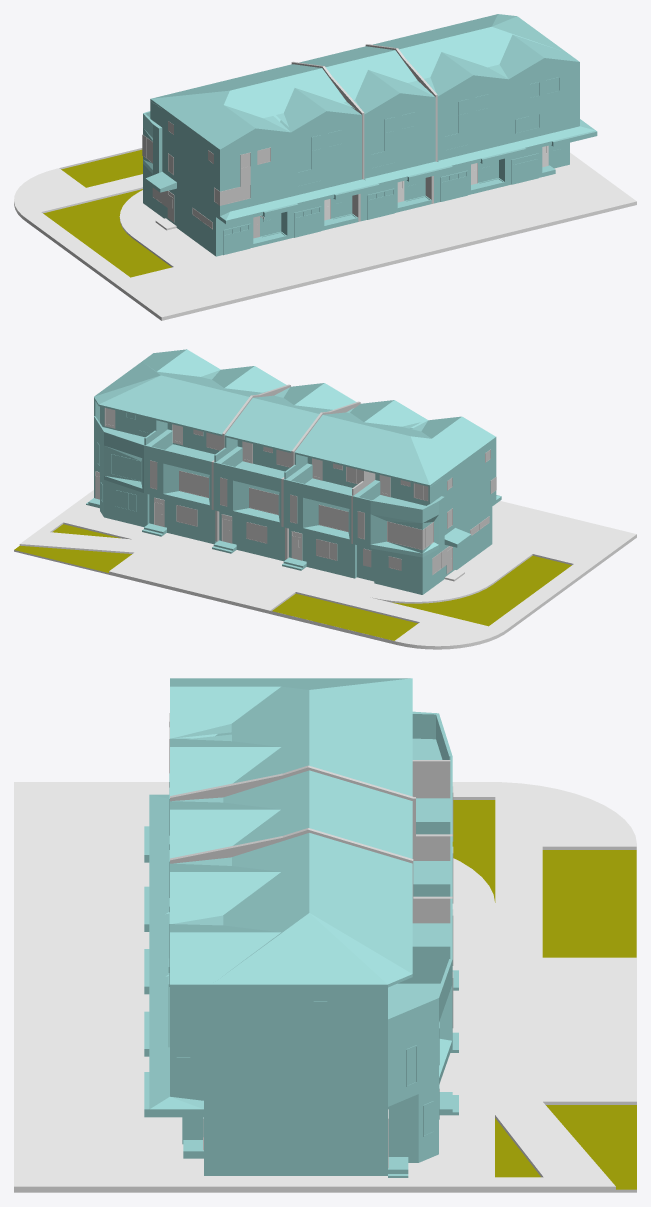
The model's file is windsor_cyan_cleaned.gltf.
3 views of the same model, one above another, from view 1: azimuth 30°, elevation 25°; view 2: azimuth 150°, elevation 25°; view 3: azimuth 270°, elevation 25° (orthographic). The views are drawn at different scales.
Parts seen in each view (by area): view 1: Geom3D, Geom3D__128, Geom3D__48, Geom3D_1, Geom3D__107, Geom3D__27, Geom3D__135, Geom3D__85, Geom3D_Component#75_1, Geom3D_Component#75_4, Geom3D_Component#75_3, Geom3D_Component#75 (+10 smaller); view 2: Geom3D, Geom3D__128, Geom3D_1, Geom3D__48, Geom3D__135, Geom3D__85, Geom3D__107, Geom3D__27, Geom3D__80, Geom3D_Component#75_1, Geom3D__26, Geom3D__106 (+8 smaller); view 3: Geom3D, Geom3D__135, Geom3D__128, Geom3D_1, Geom3D_Component#75_4, Geom3D_Component#75_1, Geom3D_Component#75_2, Geom3D_Component#75, Geom3D_Component#75_3, Geom3D__85, Geom3D_Component#76, Geom3D_Component#79 (+5 smaller).
Boxes of the visible parts, <box> form: Geom3D: <box>14,148,636,320</box>; Geom3D__128: <box>150,14,566,140</box>; Geom3D__48: <box>143,110,298,256</box>; Geom3D_1: <box>43,149,171,277</box>; Geom3D__107: <box>281,117,379,239</box>; Geom3D__27: <box>360,99,452,221</box>; Geom3D__135: <box>499,63,597,185</box>; Geom3D__85: <box>434,81,526,203</box>; Geom3D_Component#75_1: <box>186,104,290,151</box>; Geom3D_Component#75_4: <box>499,34,579,80</box>; Geom3D_Component#75_3: <box>280,88,361,133</box>; Geom3D_Component#75: <box>355,70,435,116</box>; Geom3D: <box>14,490,636,649</box>; Geom3D__128: <box>94,362,464,504</box>; Geom3D_1: <box>14,524,571,640</box>; Geom3D__48: <box>351,438,501,594</box>; Geom3D__135: <box>94,399,149,526</box>; Geom3D__85: <box>144,420,219,543</box>; Geom3D__107: <box>283,454,357,578</box>; Geom3D__27: <box>213,437,289,561</box>; Geom3D__80: <box>370,496,444,557</box>; Geom3D_Component#75_1: <box>421,416,496,461</box>; Geom3D__26: <box>233,466,281,526</box>; Geom3D__106: <box>303,483,351,543</box>; Geom3D: <box>14,782,636,1192</box>; Geom3D__135: <box>144,959,452,1175</box>; Geom3D__128: <box>211,678,412,987</box>; Geom3D_1: <box>452,800,636,1189</box>; Geom3D_Component#75_4: <box>170,924,286,987</box>; Geom3D_Component#75_1: <box>170,678,286,738</box>; Geom3D_Component#75_2: <box>170,863,280,923</box>; Geom3D_Component#75: <box>170,801,280,858</box>; Geom3D_Component#75_3: <box>170,738,280,795</box>; Geom3D__85: <box>144,923,452,1056</box>; Geom3D_Component#76: <box>170,765,452,860</box>; Geom3D_Component#79: <box>170,828,452,923</box>.
Bounding box in the file's own units: 42.82 × 11.42 × 27.87.
